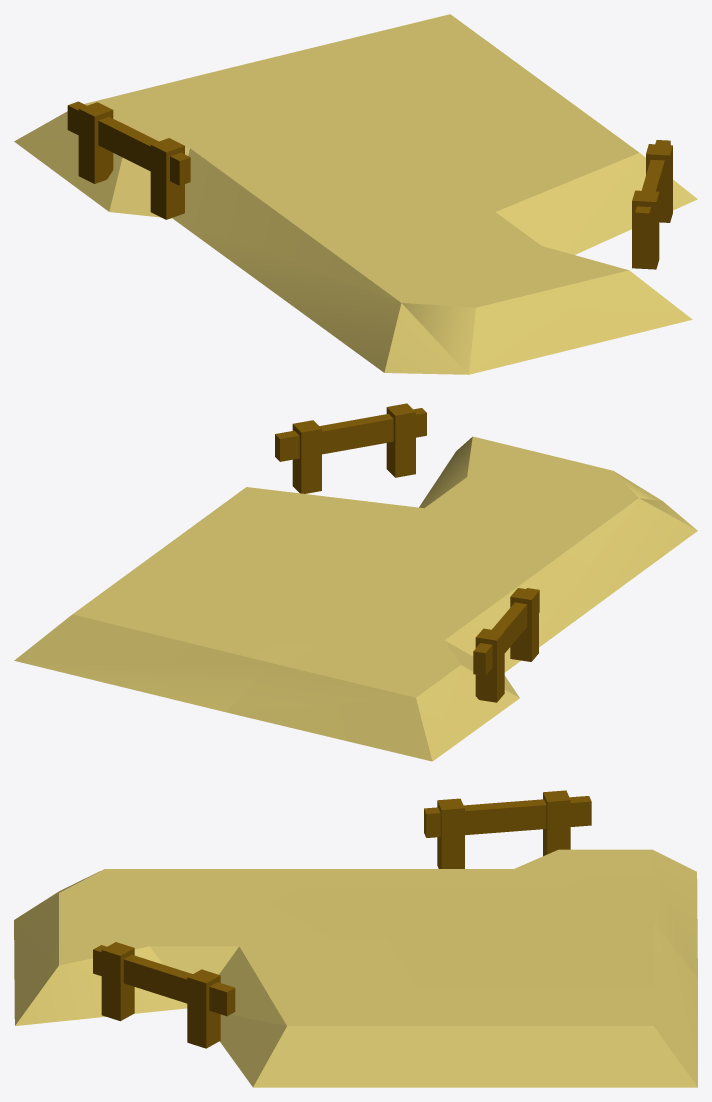
The model's file is ThreeWayQuarterFilled2.fbx.
3 views of the same model, one above another, from view 1: azimuth 30°, elevation 25°; view 2: azimuth 150°, elevation 25°; view 3: azimuth 270°, elevation 25° (orthographic). The views are drawn at different scales.
Visible parts, largest first — view 1: Normal - Three Way Quarter Filled 2; view 2: Normal - Three Way Quarter Filled 2; view 3: Normal - Three Way Quarter Filled 2.
Boxes of the visible parts, box(x1,y1,x2,y2) form: Normal - Three Way Quarter Filled 2: box(14, 14, 697, 374); Normal - Three Way Quarter Filled 2: box(14, 403, 697, 761); Normal - Three Way Quarter Filled 2: box(14, 790, 697, 1087).
Bounding box in the file's own units: 112 × 19.6 × 150.
